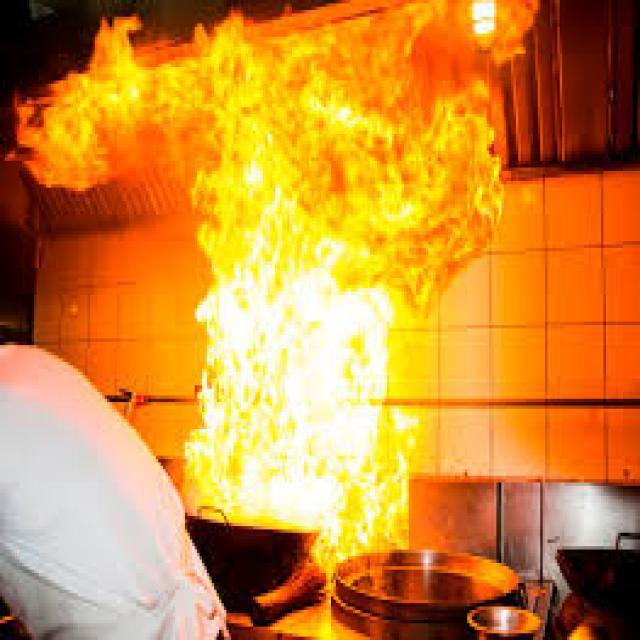Fire: (2, 0, 537, 596)
